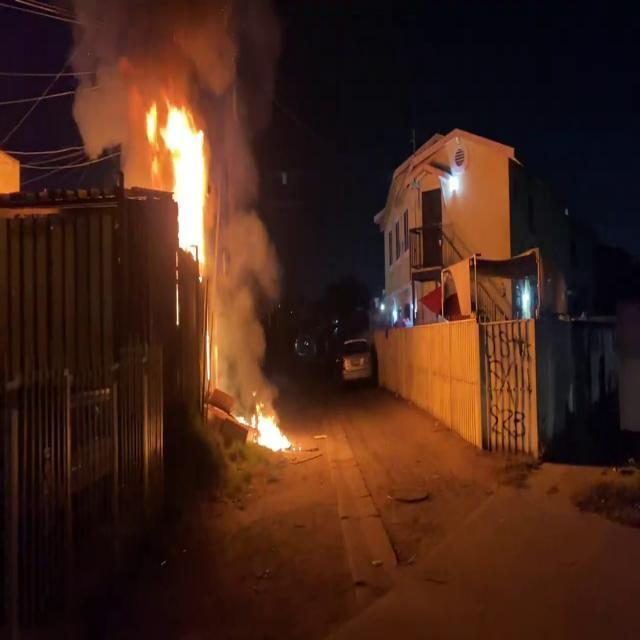Fire: (150, 90, 210, 272), (241, 398, 295, 458)
Smoke: (55, 0, 283, 143), (207, 56, 285, 392)
